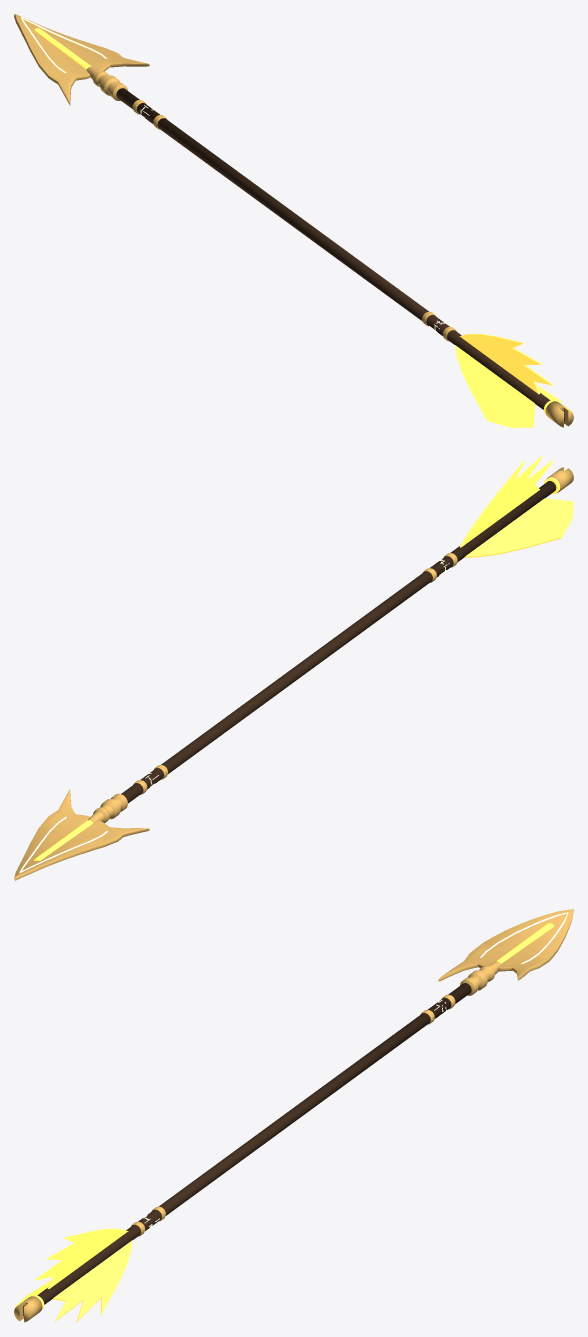
File: golden_arrow.glb
3 renders of one model, top to bottom at view 1: azimuth 30°, elevation 25°; view 2: azimuth 150°, elevation 25°; view 3: azimuth 330°, elevation 25°, orthographic.
Parts seen in each view (by area): view 1: GoldenArrow; view 2: GoldenArrow; view 3: GoldenArrow.
Boxes of the visible parts, x1=… form: GoldenArrow: x1=14, y1=14, x2=573, y2=427; GoldenArrow: x1=14, y1=456, x2=573, y2=880; GoldenArrow: x1=14, y1=909, x2=573, y2=1322.
Size of the model in its own units: 0.0602 by 0.0493 by 0.7192.
